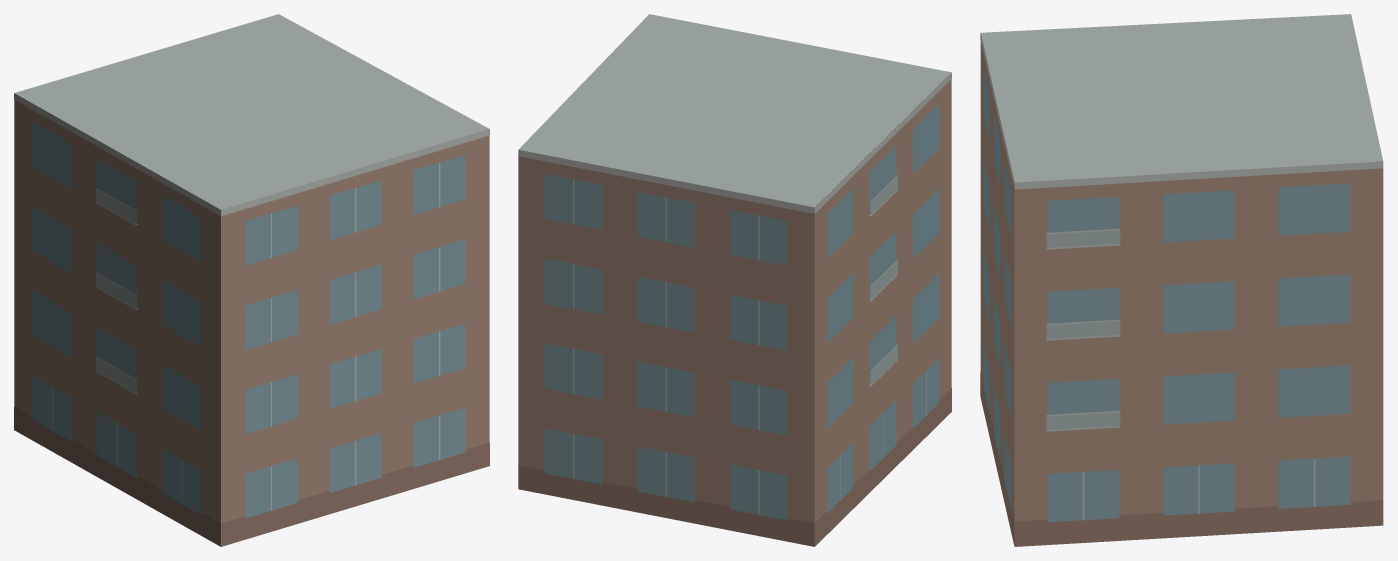
The model's file is survey-upis-32654170.glb.
The picture shows the model from 3 angles, left to right: view 1: azimuth 30°, elevation 25°; view 2: azimuth 150°, elevation 25°; view 3: azimuth 270°, elevation 25°; orthographic projection. The views are drawn at different scales.
Parts seen in each view (by area): view 1: survey-upis-32654170.tmp; view 2: survey-upis-32654170.tmp; view 3: survey-upis-32654170.tmp.
Boxes of the visible parts, <box> form: survey-upis-32654170.tmp: <box>14,14,489,546</box>; survey-upis-32654170.tmp: <box>518,14,951,546</box>; survey-upis-32654170.tmp: <box>980,14,1383,546</box>.
Bounding box in the file's own units: 12.73 × 12.8 × 12.84.
